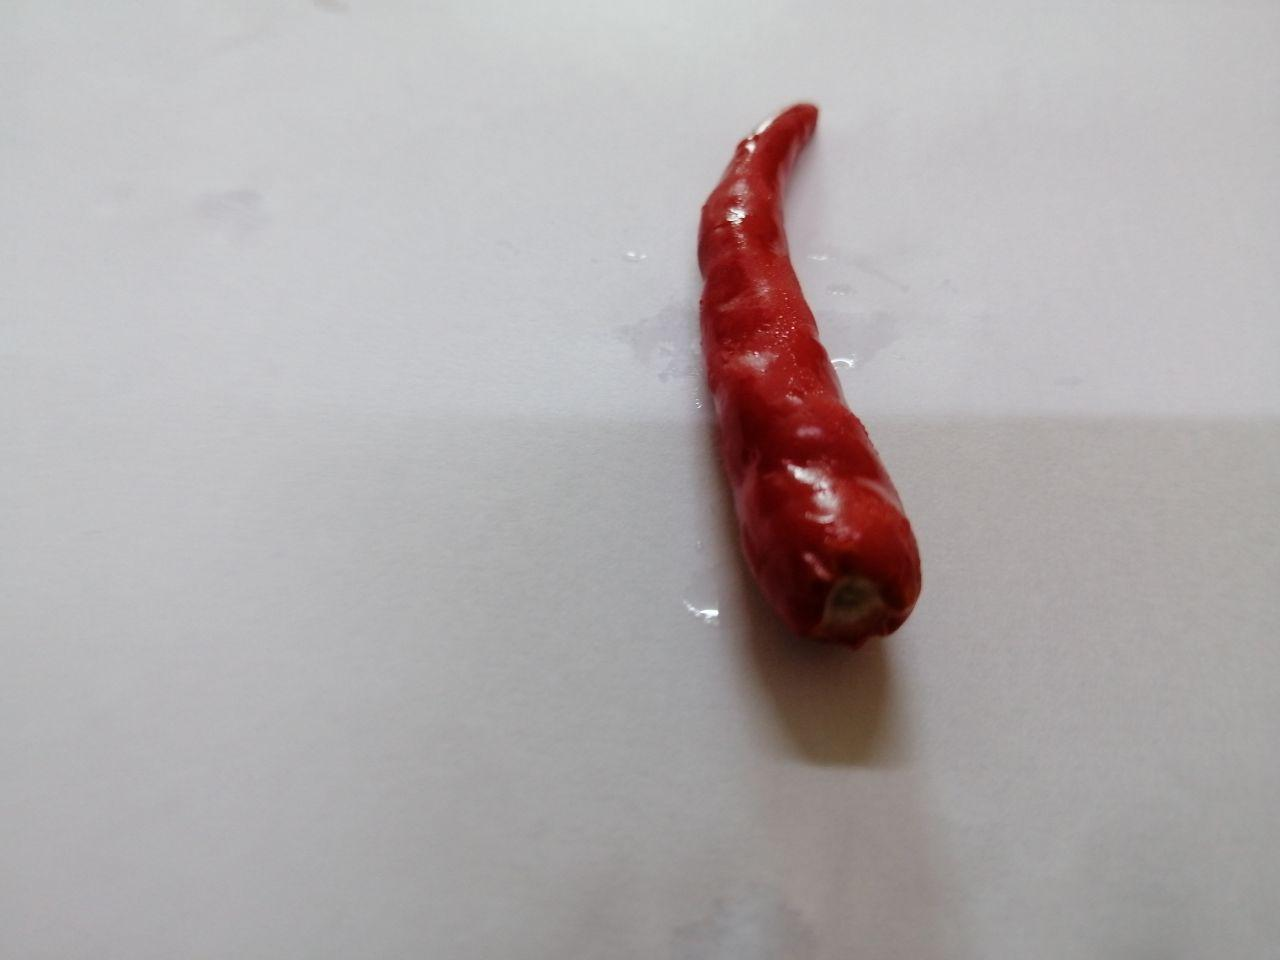lada merah: (666, 75, 963, 668)
